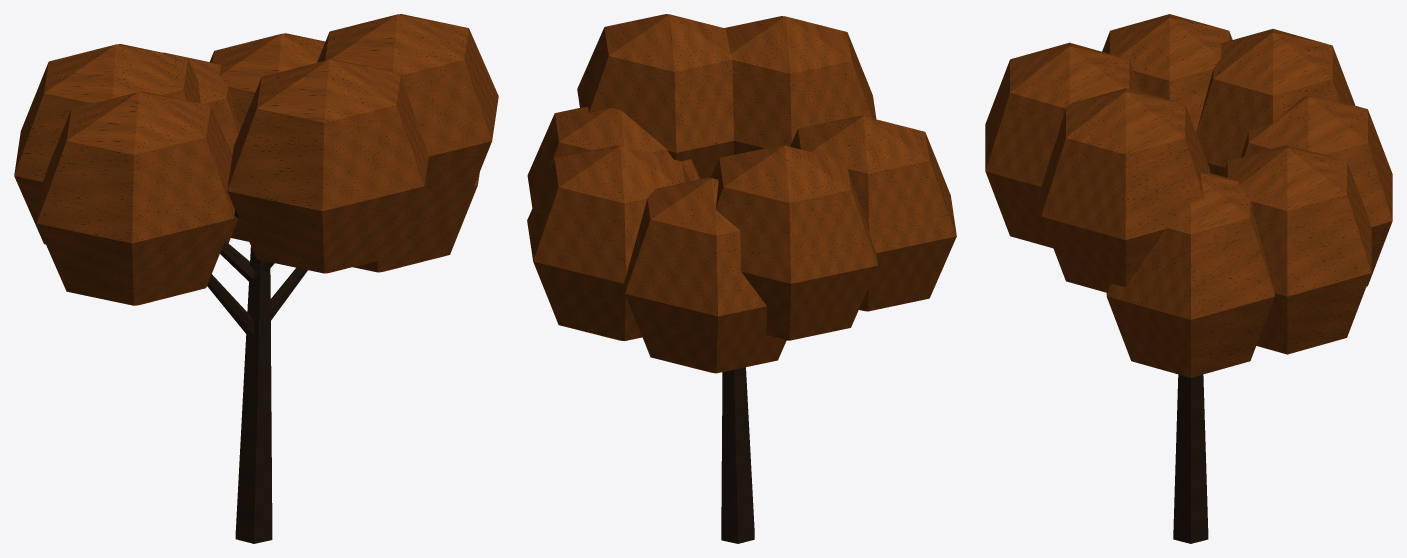
Rendered from PROP-4DAAAEB662D6_lod2.glb.
The picture shows the model from 3 angles, left to right: view 1: azimuth 30°, elevation 25°; view 2: azimuth 150°, elevation 25°; view 3: azimuth 270°, elevation 25°; orthographic projection. The views are drawn at different scales.
Visible parts, largest first — view 1: leaf_crown.089, trunk.082, branch.053; view 2: leaf_crown.089, trunk.082; view 3: leaf_crown.089, trunk.082.
Part boxes in pixels (x1,y1,x2,y2): leaf_crown.089: (14,14,498,305); trunk.082: (235,246,272,543); branch.053: (207,210,307,335); leaf_crown.089: (527,14,956,373); trunk.082: (721,367,754,543); leaf_crown.089: (985,14,1392,377); trunk.082: (1173,374,1208,543).
Bounding box in the file's own units: 6.03 × 6.52 × 4.87.
2 materials, 2 textured.
